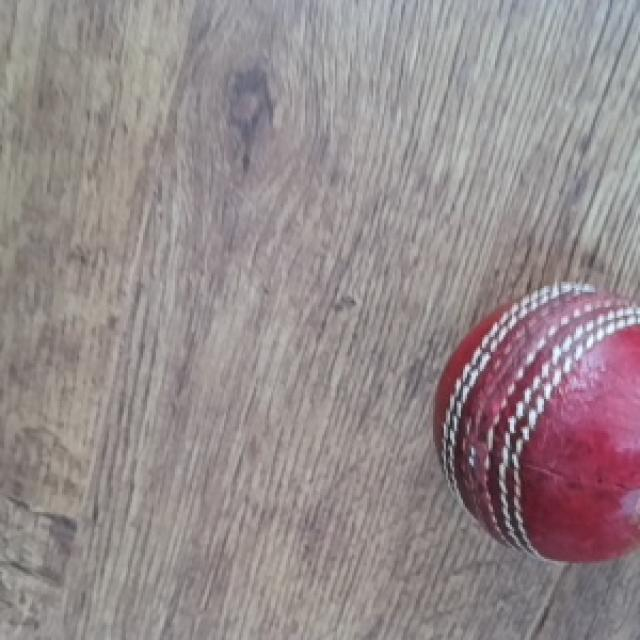ball: (431, 277, 640, 570)
